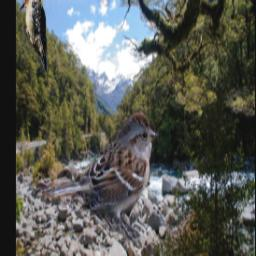Sparrow: (36, 110, 160, 246)
Woodpecker: (18, 0, 48, 72)
